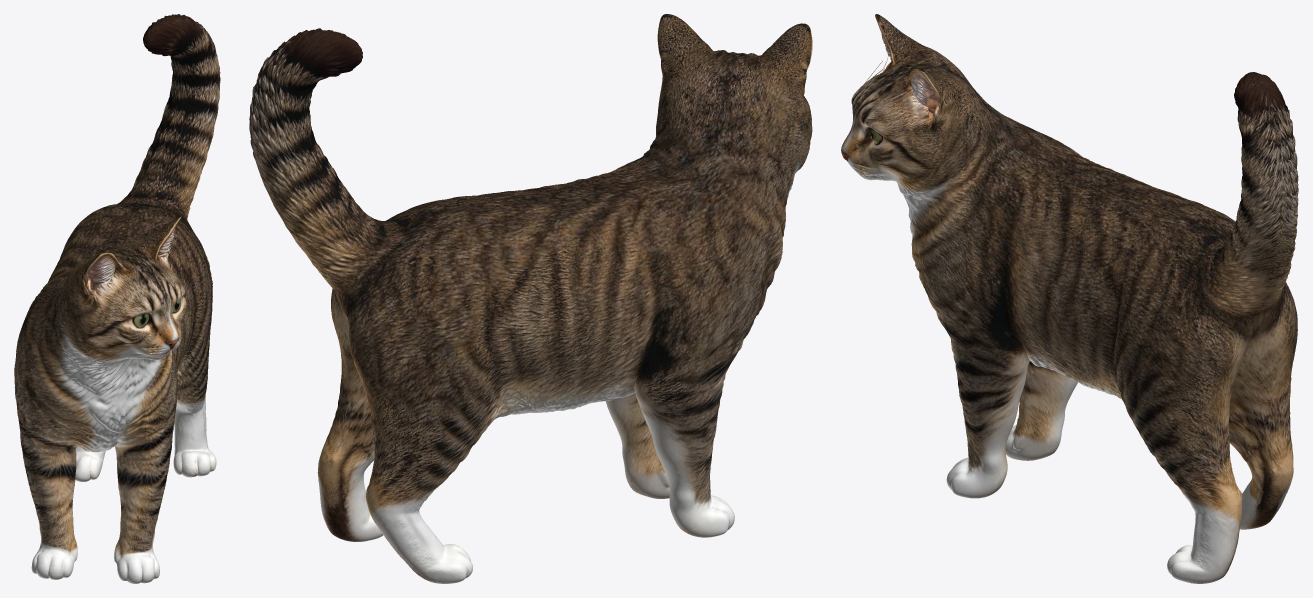
The model's file is cat.meshopt.glb.
3 renders of one model, left to right at view 1: azimuth 30°, elevation 25°; view 2: azimuth 150°, elevation 25°; view 3: azimuth 270°, elevation 25°, orthographic. The views are drawn at different scales.
Parts seen in each view (by area): view 1: cat; view 2: cat; view 3: cat.
Part boxes in pixels (bbox=[...]): cat: bbox=[14, 14, 220, 583]; cat: bbox=[249, 14, 812, 583]; cat: bbox=[841, 14, 1298, 583].
Size of the model in its own units: 0.3735 by 0.5 by 0.4146.
1 material, 1 textured.
